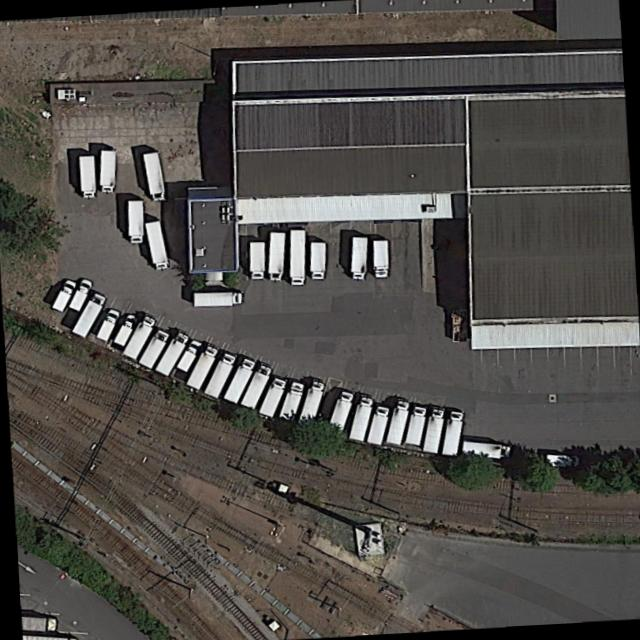large-vehicle: (202, 350, 238, 400), (184, 343, 220, 392), (120, 314, 157, 361), (70, 293, 107, 339), (153, 332, 190, 378), (238, 364, 273, 411), (222, 357, 256, 405), (296, 379, 326, 430), (137, 329, 171, 370), (257, 377, 288, 419), (144, 220, 169, 272), (141, 151, 166, 203), (277, 380, 305, 426), (326, 390, 354, 435), (385, 398, 411, 446), (347, 395, 373, 442), (421, 406, 446, 454), (440, 412, 464, 457), (288, 229, 306, 287), (175, 339, 203, 374), (267, 231, 286, 282), (404, 405, 427, 447), (112, 313, 139, 348), (366, 405, 389, 446), (461, 441, 510, 460), (67, 278, 93, 312), (51, 279, 77, 313), (95, 309, 121, 342), (98, 150, 117, 193), (126, 200, 144, 244), (78, 155, 96, 199), (350, 237, 368, 280), (193, 292, 243, 307), (372, 240, 389, 279), (309, 242, 326, 280), (249, 242, 264, 280), (21, 616, 56, 632), (546, 455, 579, 468), (22, 635, 77, 640)
